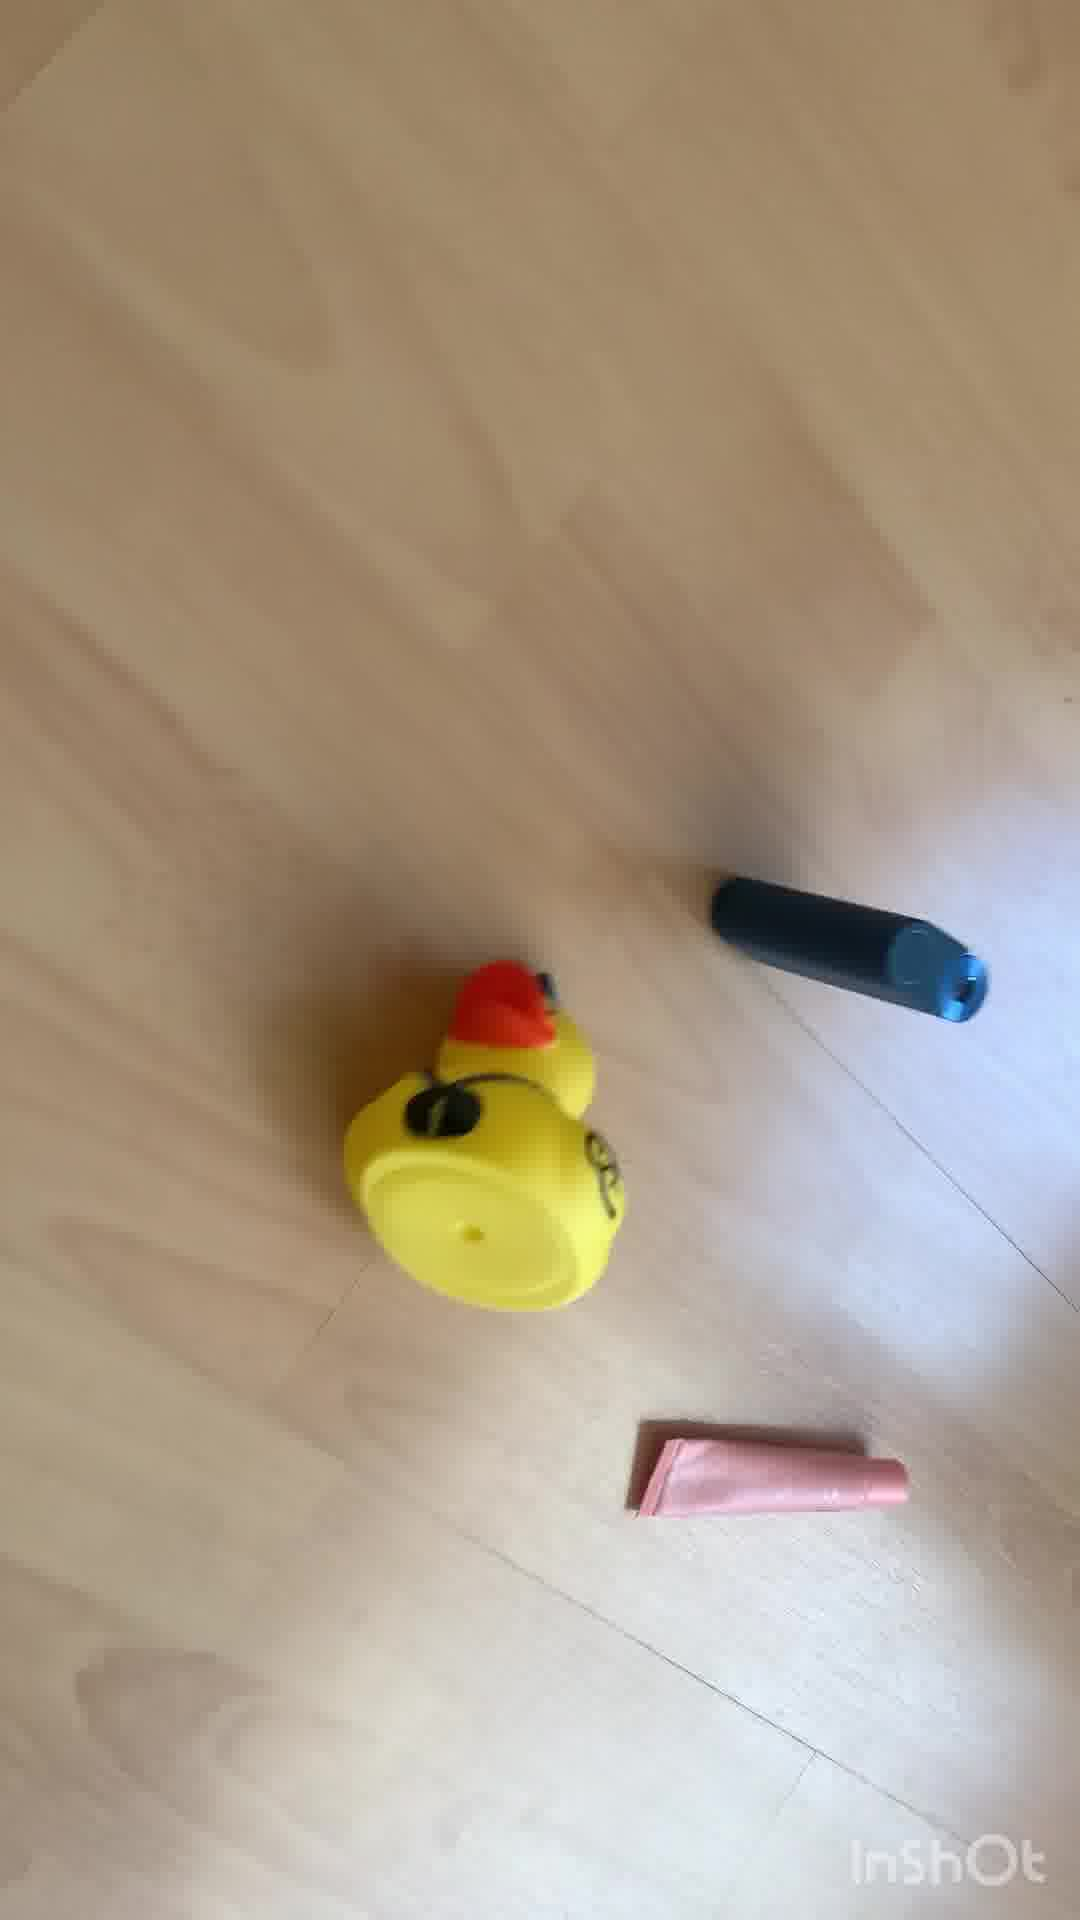duck: (344, 959, 611, 1316)
glo: (715, 887, 996, 1013)
lip balm: (633, 1423, 928, 1536)
